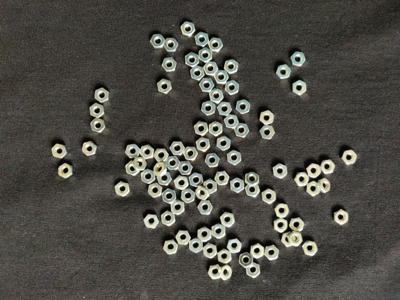nut: (302, 241, 319, 257), (342, 150, 358, 166), (291, 51, 306, 68), (239, 252, 254, 269), (334, 209, 349, 225), (306, 181, 321, 197), (260, 125, 276, 140), (273, 163, 288, 179), (288, 231, 303, 247), (274, 218, 289, 234), (265, 245, 280, 261), (262, 188, 277, 204), (230, 178, 245, 194), (234, 123, 250, 138), (224, 114, 240, 129), (217, 101, 233, 116), (225, 80, 240, 96), (224, 59, 239, 75), (214, 70, 230, 85), (190, 66, 205, 82), (208, 38, 224, 53), (157, 79, 172, 95), (220, 212, 235, 228), (203, 243, 218, 259), (189, 172, 204, 188), (163, 240, 179, 255), (161, 211, 176, 227), (148, 183, 163, 199), (140, 144, 155, 160), (115, 181, 130, 197), (52, 144, 68, 159), (247, 262, 261, 279), (204, 178, 218, 195), (276, 65, 291, 80), (295, 172, 310, 187), (275, 203, 290, 218), (236, 100, 251, 115), (228, 239, 243, 254), (194, 121, 209, 136), (200, 78, 215, 93), (204, 61, 219, 76), (195, 32, 210, 47), (181, 21, 196, 36), (162, 57, 177, 72), (215, 171, 230, 186), (205, 153, 220, 168), (196, 137, 211, 152), (218, 249, 233, 264), (174, 176, 189, 191), (176, 230, 191, 245), (162, 189, 177, 204), (144, 214, 159, 229), (157, 172, 172, 187), (141, 169, 156, 184), (95, 88, 110, 103), (90, 103, 105, 118), (91, 118, 106, 133), (293, 80, 307, 96), (251, 244, 265, 260), (228, 150, 242, 166), (209, 121, 223, 137), (199, 48, 213, 64), (185, 52, 199, 68), (218, 265, 232, 281), (212, 223, 226, 239), (198, 227, 212, 243), (189, 238, 203, 254), (198, 201, 214, 215), (171, 200, 185, 216), (126, 161, 140, 177), (82, 142, 98, 156), (307, 164, 322, 178), (260, 111, 275, 125), (290, 218, 305, 232), (282, 233, 296, 248), (246, 172, 260, 187), (202, 101, 216, 116), (210, 89, 224, 104), (164, 38, 179, 52), (151, 34, 165, 49), (217, 136, 231, 151), (196, 186, 210, 201), (183, 147, 198, 161), (178, 161, 193, 175), (166, 156, 181, 170), (181, 189, 195, 204), (154, 149, 169, 163), (154, 162, 168, 177), (133, 157, 148, 171), (126, 144, 141, 158), (59, 164, 73, 179), (245, 184, 261, 197), (321, 160, 335, 174), (318, 178, 331, 193), (208, 265, 221, 280), (170, 142, 185, 155)
